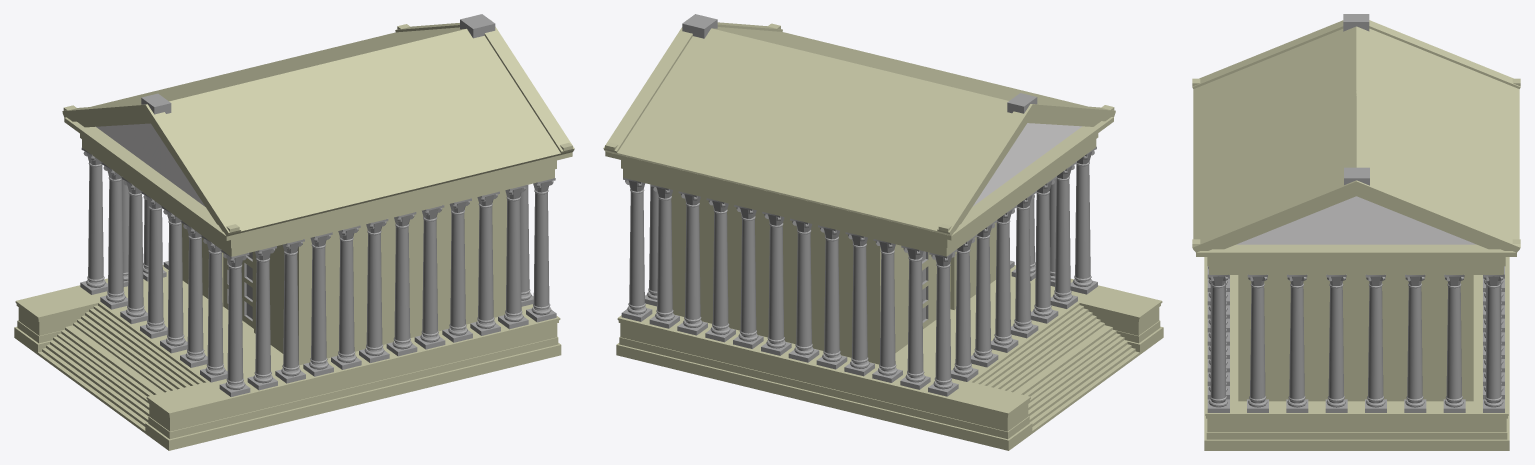
The picture shows the model from 3 angles, left to right: view 1: azimuth 30°, elevation 25°; view 2: azimuth 150°, elevation 25°; view 3: azimuth 270°, elevation 25°; orthographic projection.
Visible parts, largest first — view 1: Component#4_002, Layer0_001, Component#1_002, Component#1_001, Component#4_001, Group_126, Group_096, Group_006, Group_136, Group_131, Group_106, Group_031 (+15 smaller); view 2: Component#4_001, Layer0_001, Component#1_001, Component#1_002, Component#4_002, Group_091, Group_061, Group_041, Group_016, Group_031, Group_026, Group_046 (+15 smaller); view 3: Component#4_002, Component#4_001, Layer0_001, Component#1_001, Component#1_002, Group_161, Group_166, Group_176, Group_171, Group_156, Group_091, Group_151 (+3 smaller).
Boxes of the visible parts, bbox=[...] form: Component#4_002: bbox=[145, 20, 574, 236]; Layer0_001: bbox=[64, 117, 572, 365]; Component#1_002: bbox=[91, 304, 561, 450]; Component#1_001: bbox=[14, 265, 228, 393]; Component#4_001: bbox=[62, 23, 464, 173]; Group_126: bbox=[309, 244, 328, 369]; Group_096: bbox=[392, 224, 412, 349]; Group_006: bbox=[106, 177, 125, 302]; Group_136: bbox=[448, 210, 467, 335]; Group_131: bbox=[476, 203, 495, 328]; Group_106: bbox=[281, 251, 300, 376]; Group_031: bbox=[205, 250, 225, 375]; Component#4_001: bbox=[603, 20, 1032, 235]; Layer0_001: bbox=[605, 117, 1113, 364]; Component#1_001: bbox=[616, 304, 1085, 450]; Component#1_002: bbox=[935, 265, 1163, 393]; Component#4_002: bbox=[712, 22, 1115, 172]; Group_091: bbox=[627, 189, 646, 314]; Group_061: bbox=[794, 230, 813, 355]; Group_041: bbox=[905, 257, 925, 382]; Group_016: bbox=[993, 220, 1012, 345]; Group_031: bbox=[1053, 176, 1072, 301]; Group_026: bbox=[1033, 191, 1052, 316]; Group_046: bbox=[878, 250, 897, 375]; Component#4_002: bbox=[1192, 20, 1356, 252]; Component#4_001: bbox=[1356, 20, 1520, 252]; Layer0_001: bbox=[1196, 244, 1516, 401]; Component#1_001: bbox=[1357, 257, 1509, 450]; Component#1_002: bbox=[1204, 257, 1356, 450]; Group_161: bbox=[1405, 283, 1424, 407]; Group_166: bbox=[1287, 283, 1306, 407]; Group_176: bbox=[1248, 283, 1267, 407]; Group_171: bbox=[1366, 283, 1385, 407]; Group_156: bbox=[1444, 283, 1463, 407]; Group_091: bbox=[1484, 283, 1503, 407]; Group_151: bbox=[1326, 283, 1345, 407].
Bounding box in the file's own units: 3104 × 2067 × 2237.
